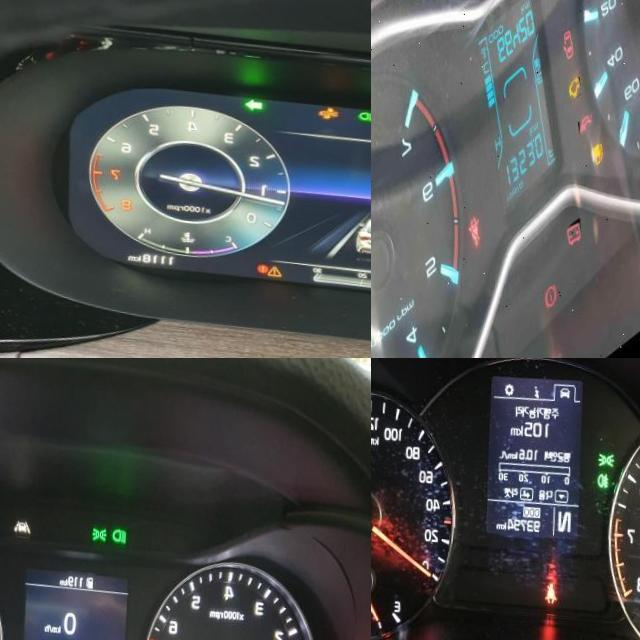Central Warning lamp: (273, 256, 290, 269)
FrontFogLight: (600, 462, 613, 480)
LaneCenteringOff: (18, 512, 36, 527)
Low beam: (115, 518, 131, 535), (361, 99, 371, 111)
SideLamp: (600, 441, 619, 459), (94, 517, 111, 535)
